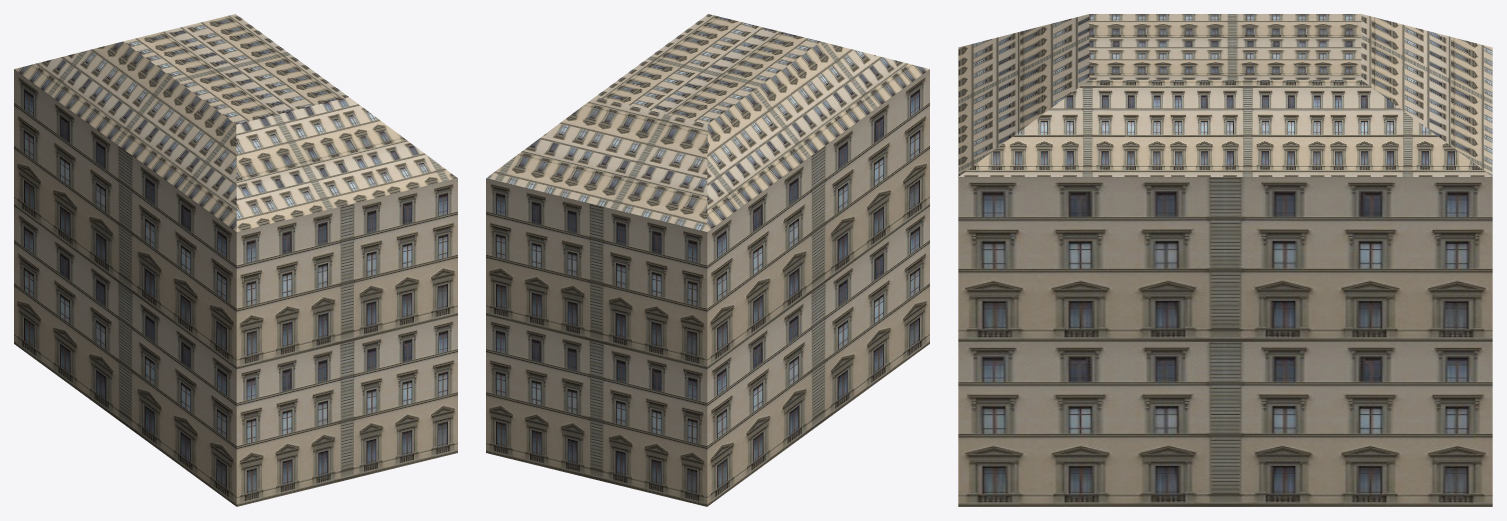
The model's file is binasdgf213.fbx.
3 views of the same model, side by side, from view 1: azimuth 30°, elevation 25°; view 2: azimuth 150°, elevation 25°; view 3: azimuth 270°, elevation 25° (orthographic). The views are drawn at different scales.
Parts seen in each view (by area): view 1: Cube; view 2: Cube; view 3: Cube.
Part boxes in pixels (box(x1,y1,x2,y2)): Cube: box(14, 14, 457, 506); Cube: box(486, 14, 929, 506); Cube: box(958, 14, 1492, 506).
Bounding box in the file's own units: 241 × 343 × 420.
